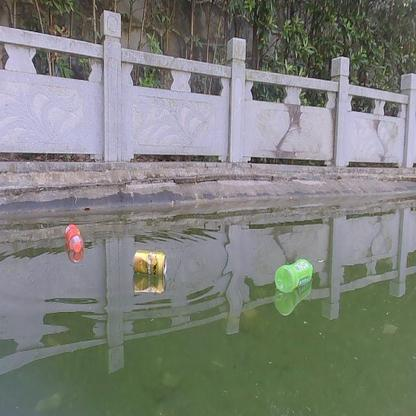can: (133, 248, 167, 276)
plastic bottle: (274, 259, 314, 293), (65, 224, 83, 253)
